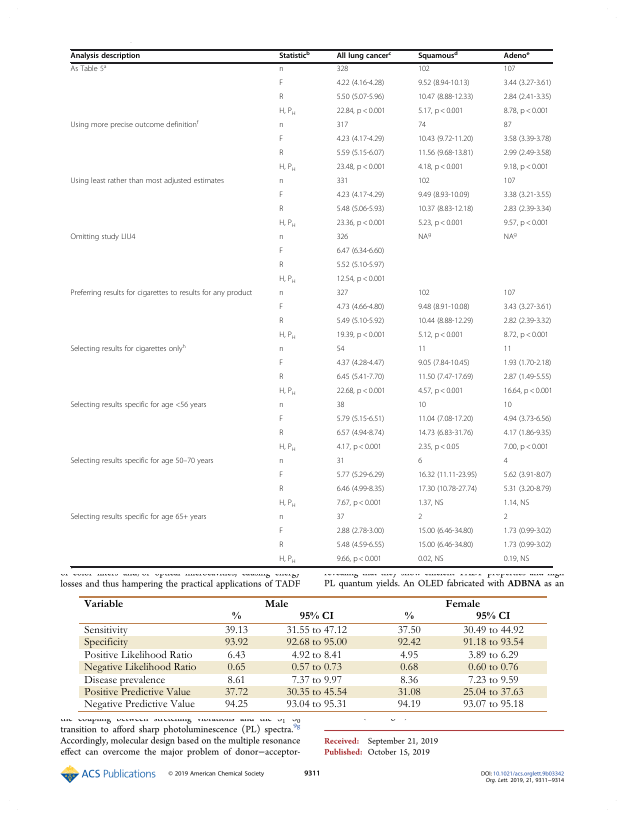borderless: (69, 48, 552, 566), (79, 594, 547, 711)
cell: (70, 289, 253, 299), (70, 177, 225, 187), (70, 119, 199, 131), (70, 457, 214, 467), (70, 343, 187, 355), (70, 401, 207, 411), (70, 513, 207, 523), (83, 662, 197, 674), (83, 699, 195, 711), (83, 649, 193, 661), (83, 687, 191, 699), (83, 674, 165, 686), (285, 625, 347, 637), (462, 625, 524, 637), (285, 637, 347, 649), (462, 637, 524, 649), (285, 687, 347, 699), (462, 687, 524, 699), (285, 699, 347, 711), (462, 699, 524, 711), (70, 233, 136, 243), (70, 52, 141, 61), (290, 649, 342, 661), (467, 649, 519, 661), (290, 662, 342, 674), (467, 662, 519, 674), (290, 674, 342, 686), (467, 674, 519, 686), (336, 50, 392, 61), (417, 471, 478, 481), (417, 485, 478, 495), (417, 93, 474, 103), (417, 135, 474, 145), (417, 149, 474, 159), (417, 205, 474, 215), (417, 317, 474, 327), (417, 373, 474, 383), (417, 415, 474, 425), (417, 429, 474, 439), (417, 527, 474, 537), (417, 541, 474, 551), (83, 625, 128, 637), (83, 637, 128, 649), (417, 79, 470, 89), (417, 191, 470, 201), (417, 303, 470, 313), (417, 359, 470, 369), (336, 107, 386, 117), (336, 163, 386, 173), (336, 219, 386, 229), (336, 275, 386, 285), (336, 331, 386, 341), (336, 387, 386, 397), (503, 387, 553, 397), (336, 79, 385, 89), (503, 79, 552, 89), (336, 93, 385, 103), (503, 93, 552, 103), (336, 135, 385, 145), (503, 135, 552, 145), (336, 149, 385, 159), (503, 149, 552, 159), (336, 191, 385, 201), (503, 191, 552, 201), (336, 205, 385, 215), (503, 205, 552, 215), (336, 247, 385, 257), (336, 261, 385, 271), (336, 303, 385, 313), (503, 303, 552, 313), (336, 317, 385, 327), (503, 317, 552, 327), (336, 359, 385, 369), (503, 359, 552, 369), (336, 373, 385, 383), (503, 373, 552, 383), (336, 415, 385, 425), (503, 415, 552, 425), (336, 429, 385, 439), (503, 429, 552, 439), (336, 471, 385, 481), (503, 471, 552, 481), (336, 485, 385, 495), (503, 485, 552, 495), (336, 527, 385, 537), (503, 527, 552, 537), (336, 541, 385, 551), (503, 541, 552, 551), (417, 107, 464, 117), (503, 107, 550, 117), (417, 163, 464, 173), (503, 163, 550, 173), (417, 219, 464, 229), (503, 219, 550, 229), (417, 331, 464, 341), (503, 331, 550, 341), (417, 387, 464, 397), (336, 443, 383, 453), (503, 443, 550, 453), (336, 499, 383, 509), (336, 555, 383, 565), (417, 50, 459, 61), (70, 63, 107, 75), (417, 443, 460, 453), (83, 598, 124, 608), (278, 50, 311, 61), (444, 598, 480, 608), (298, 611, 334, 620), (475, 611, 511, 620), (223, 625, 248, 637), (396, 625, 421, 637), (223, 637, 248, 649), (396, 637, 421, 649), (223, 687, 248, 699), (396, 687, 421, 699), (223, 699, 248, 711), (396, 699, 421, 711), (503, 50, 530, 61), (417, 499, 444, 509), (503, 499, 530, 509), (417, 555, 444, 565), (503, 555, 530, 565), (263, 598, 289, 608), (226, 649, 246, 661), (226, 662, 246, 674), (226, 674, 246, 686), (399, 649, 418, 661), (399, 662, 418, 674), (399, 674, 418, 686), (278, 107, 297, 117), (278, 163, 297, 173), (278, 219, 297, 229), (278, 275, 297, 285), (278, 331, 297, 341), (278, 387, 297, 397), (278, 443, 297, 453), (278, 499, 297, 509), (278, 555, 297, 565), (417, 231, 432, 243), (503, 231, 518, 243), (417, 65, 431, 75), (417, 177, 431, 187), (417, 289, 431, 299), (336, 65, 349, 75), (503, 65, 516, 75), (336, 121, 349, 131), (336, 177, 349, 187), (503, 177, 516, 187), (336, 233, 349, 243), (336, 289, 349, 299), (503, 289, 516, 299), (417, 121, 427, 131), (417, 345, 427, 355), (417, 401, 427, 411), (230, 611, 241, 620), (403, 611, 414, 620), (503, 121, 512, 131), (336, 345, 345, 355), (503, 345, 512, 355), (336, 401, 345, 411), (503, 401, 512, 411), (336, 457, 345, 467), (336, 513, 345, 523), (278, 65, 284, 75), (278, 79, 284, 89), (278, 93, 284, 103), (278, 121, 284, 131), (278, 135, 284, 145), (278, 149, 284, 159), (278, 177, 284, 187), (278, 191, 284, 201), (278, 205, 284, 215), (278, 233, 284, 243), (278, 247, 284, 257), (278, 261, 284, 271), (278, 289, 284, 299), (278, 303, 284, 313), (278, 317, 284, 327), (278, 345, 284, 355), (278, 359, 284, 369), (278, 373, 284, 383), (278, 401, 284, 411), (278, 415, 284, 425), (278, 429, 284, 439), (278, 457, 284, 467), (417, 457, 423, 467), (503, 457, 509, 467), (278, 471, 284, 481), (278, 485, 284, 495), (278, 513, 284, 523), (417, 513, 423, 523), (503, 513, 509, 523), (278, 527, 284, 537), (278, 541, 284, 551)
